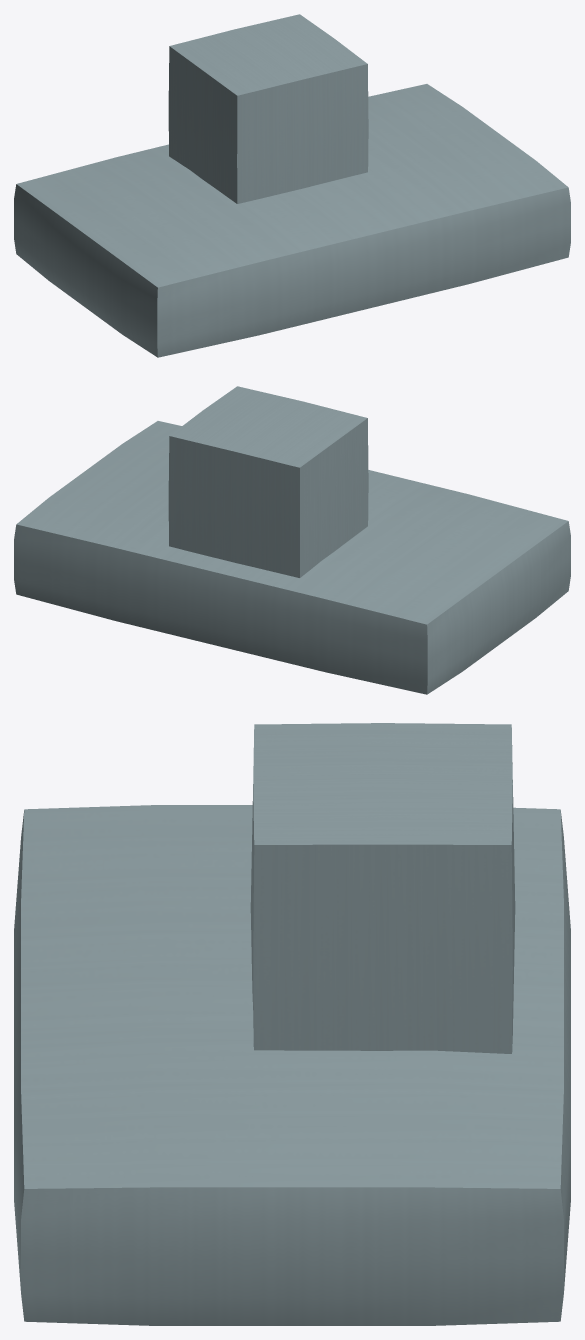
Rendered from extractor-hood.glb.
3 views of the same model, one above another, from view 1: azimuth 30°, elevation 25°; view 2: azimuth 150°, elevation 25°; view 3: azimuth 270°, elevation 25° (orthographic). The views are drawn at different scales.
Visible parts, largest first — view 1: extractor-hood; view 2: extractor-hood; view 3: extractor-hood.
Part boxes in pixels (<box>): extractor-hood: <box>14,14,570,357</box>; extractor-hood: <box>14,386,570,694</box>; extractor-hood: <box>14,723,570,1325</box>.
Bounding box in the file's own units: 1.32 × 0.5875 × 0.8.
Materials: 11 (11 with a texture image).
